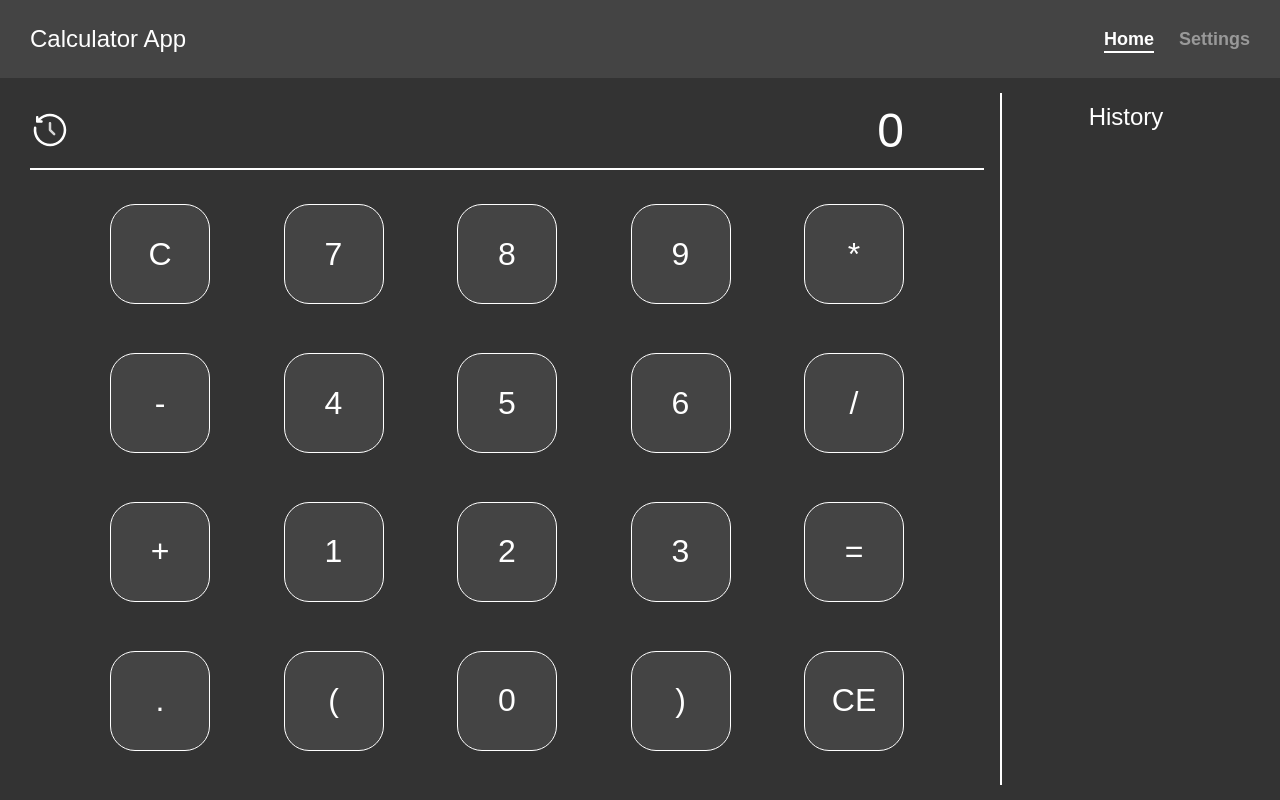
Test: Keyboard spec › Should change default expression by click on operator
Expected: the field with test id "display" holds "0", [110,103,904,158]
What coordinates should you click on to do the following:
click the button "-"
I would click on:
 (160, 403)
Its box is [110,353,210,453].
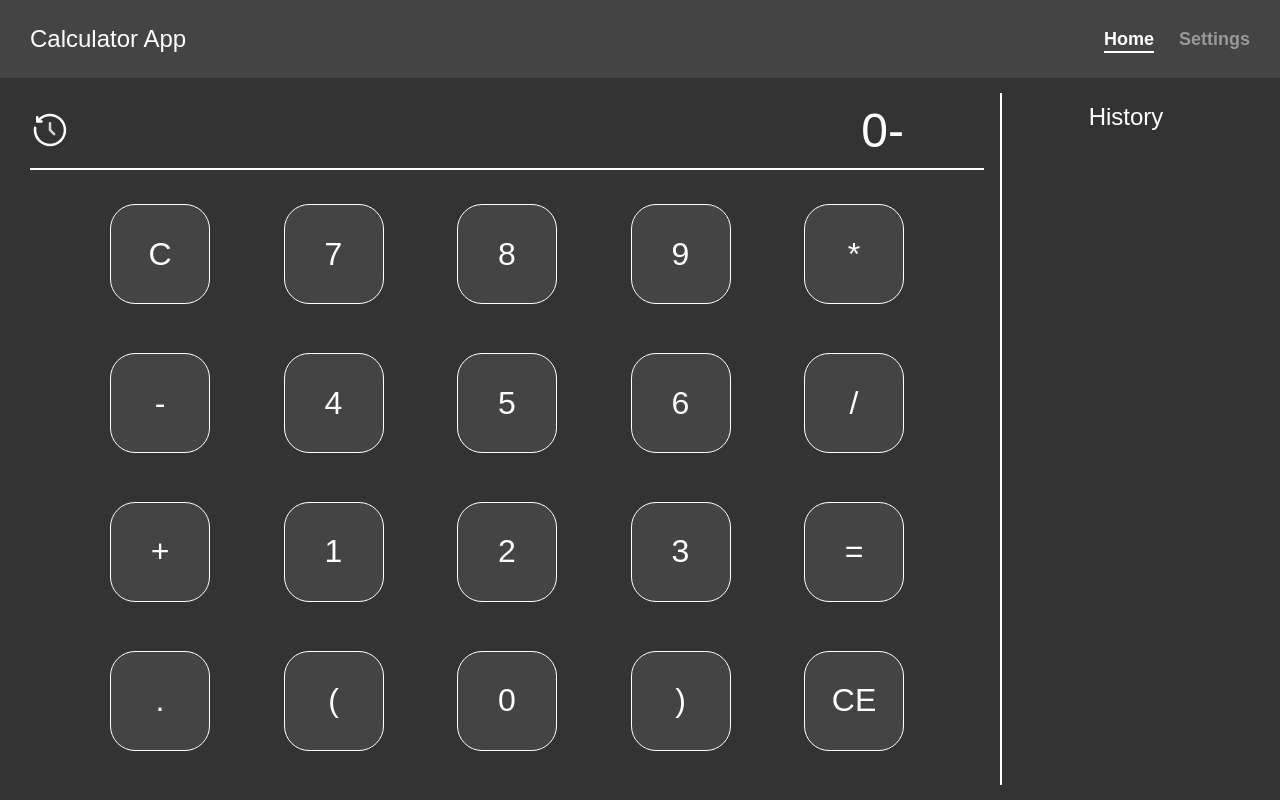
Expected: the field with test id "display" holds "0-", [110,103,904,158]
